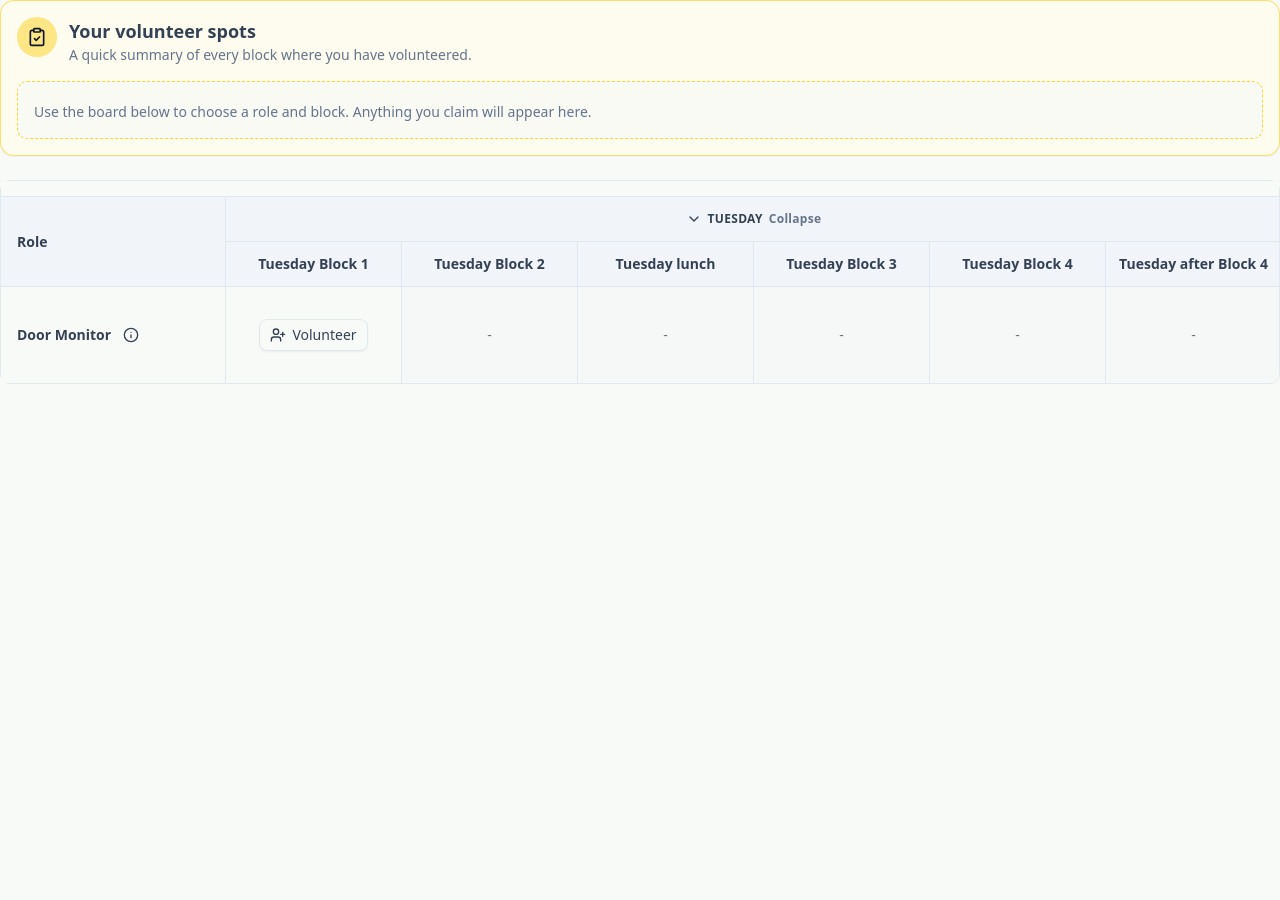
it: VolunteerBoardClient day column groups › keeps information icons clickable even when a role has no description
The width and height of the screenshot is (1280, 900).
What coordinates should you click on to do the following:
click the button named "Information about Door Monitor"
I would click on:
 (131, 335)
Its box is left=115, top=319, right=147, bottom=351.
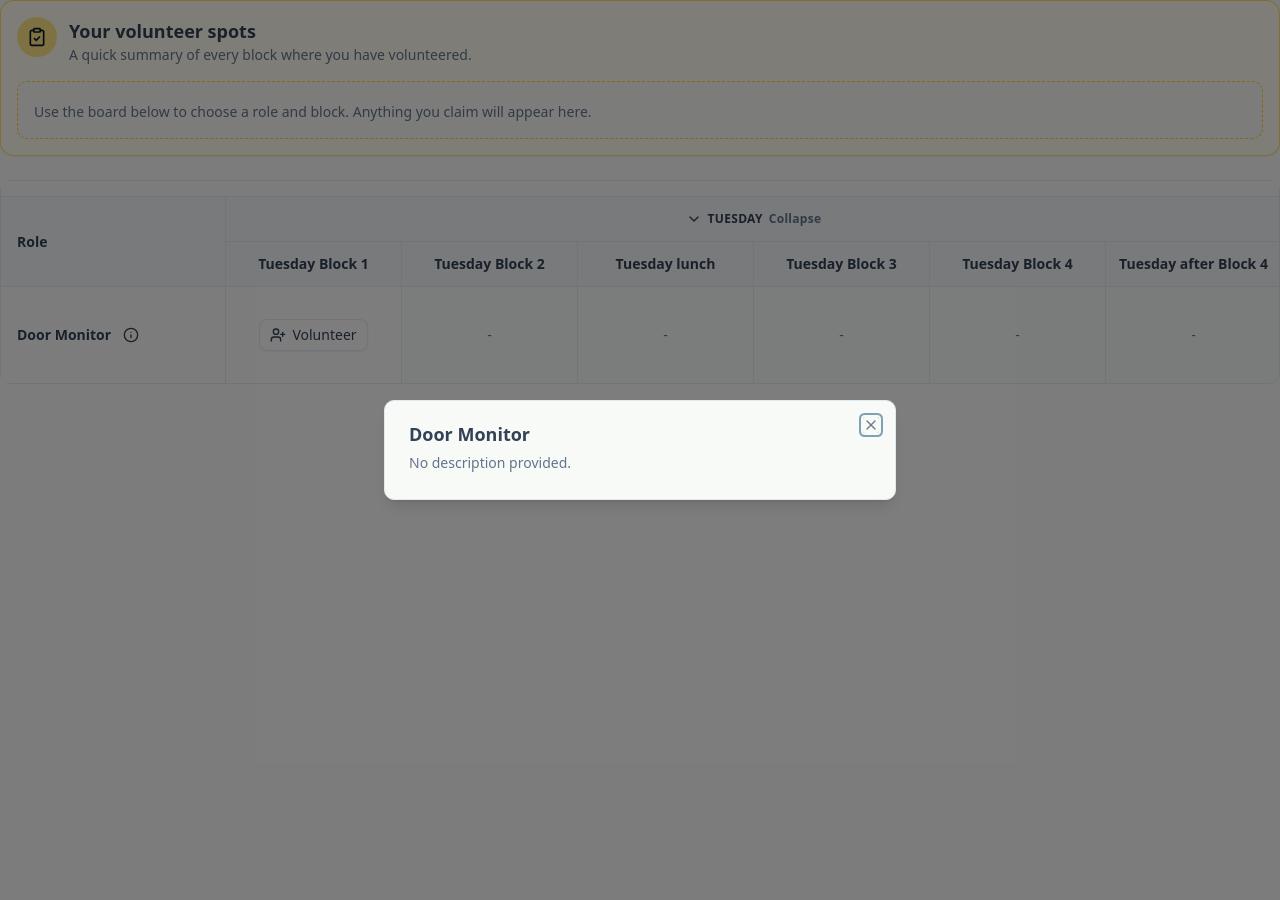
Expected: the dialog does not show "text Jim Eastburn", left=384, top=400, right=896, bottom=500
Expected: the heading "Door Monitor" is shown, left=409, top=422, right=530, bottom=446
